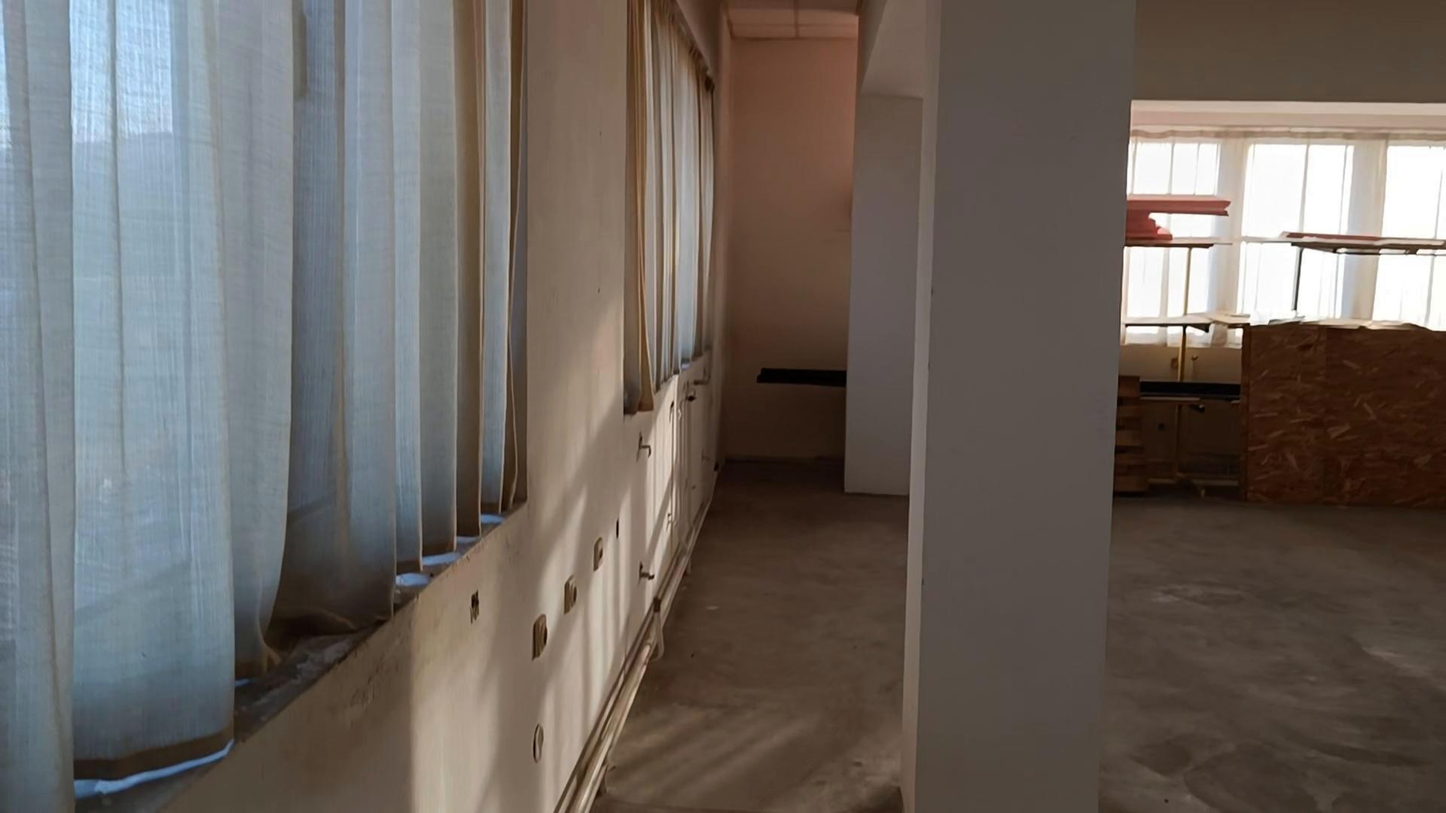floor: (1098, 497, 1445, 812), (594, 462, 906, 812)
wall: (162, 0, 719, 812), (902, 1, 1134, 813), (729, 44, 851, 459), (846, 0, 946, 501), (1132, 0, 1445, 102)
